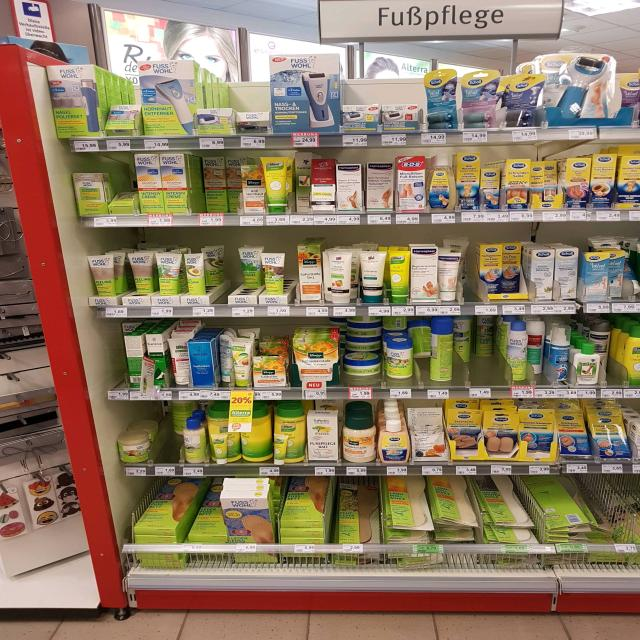unorganised: (192, 152, 243, 216), (557, 411, 594, 461), (507, 318, 531, 382), (530, 161, 562, 206), (299, 243, 323, 303), (502, 238, 527, 295), (479, 240, 504, 294), (261, 252, 290, 297), (233, 250, 261, 296), (103, 102, 142, 135), (291, 153, 311, 216), (451, 316, 475, 365), (590, 321, 611, 377), (471, 314, 496, 361), (463, 243, 483, 301), (608, 250, 630, 301), (527, 319, 547, 375), (386, 336, 412, 379), (128, 252, 150, 298), (216, 334, 233, 388), (408, 320, 431, 359), (344, 353, 380, 375), (237, 113, 274, 134), (209, 432, 231, 466), (169, 399, 189, 436), (107, 189, 137, 212), (273, 434, 288, 465)
